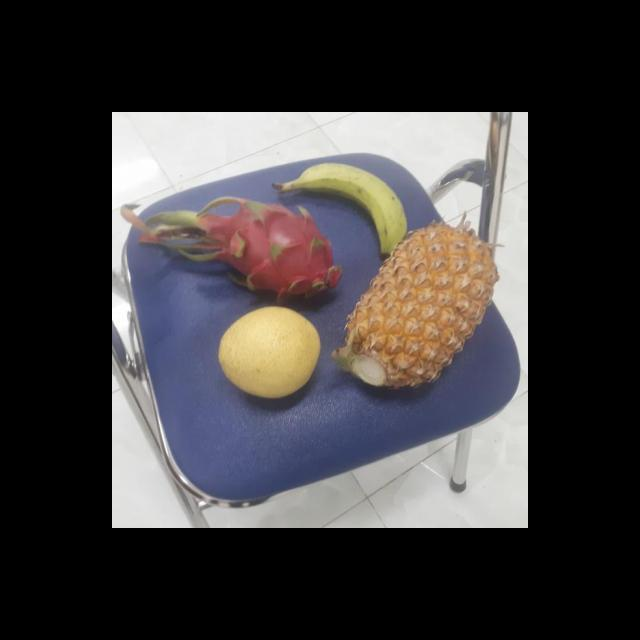banana: (286, 160, 412, 262)
guava: (221, 308, 329, 398)
pineapple: (335, 222, 496, 393)
pitaya: (202, 198, 344, 308)
